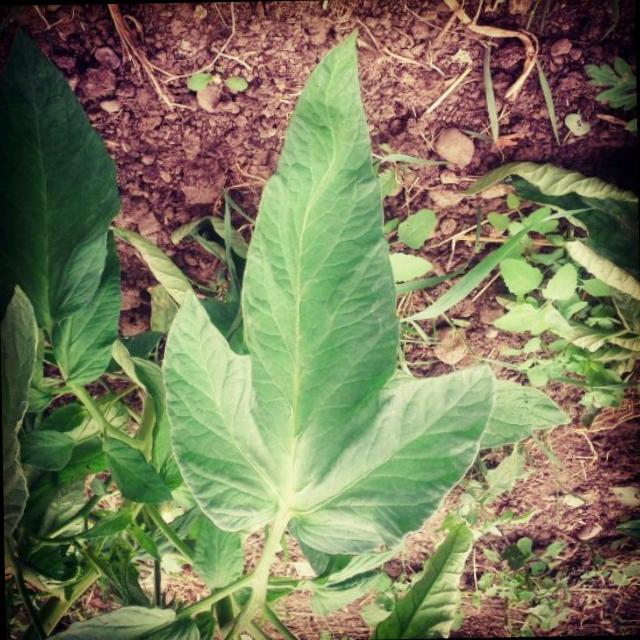Tomato healthy leaf: (161, 31, 502, 555), (0, 3, 122, 325), (49, 226, 122, 385), (102, 435, 174, 507)
